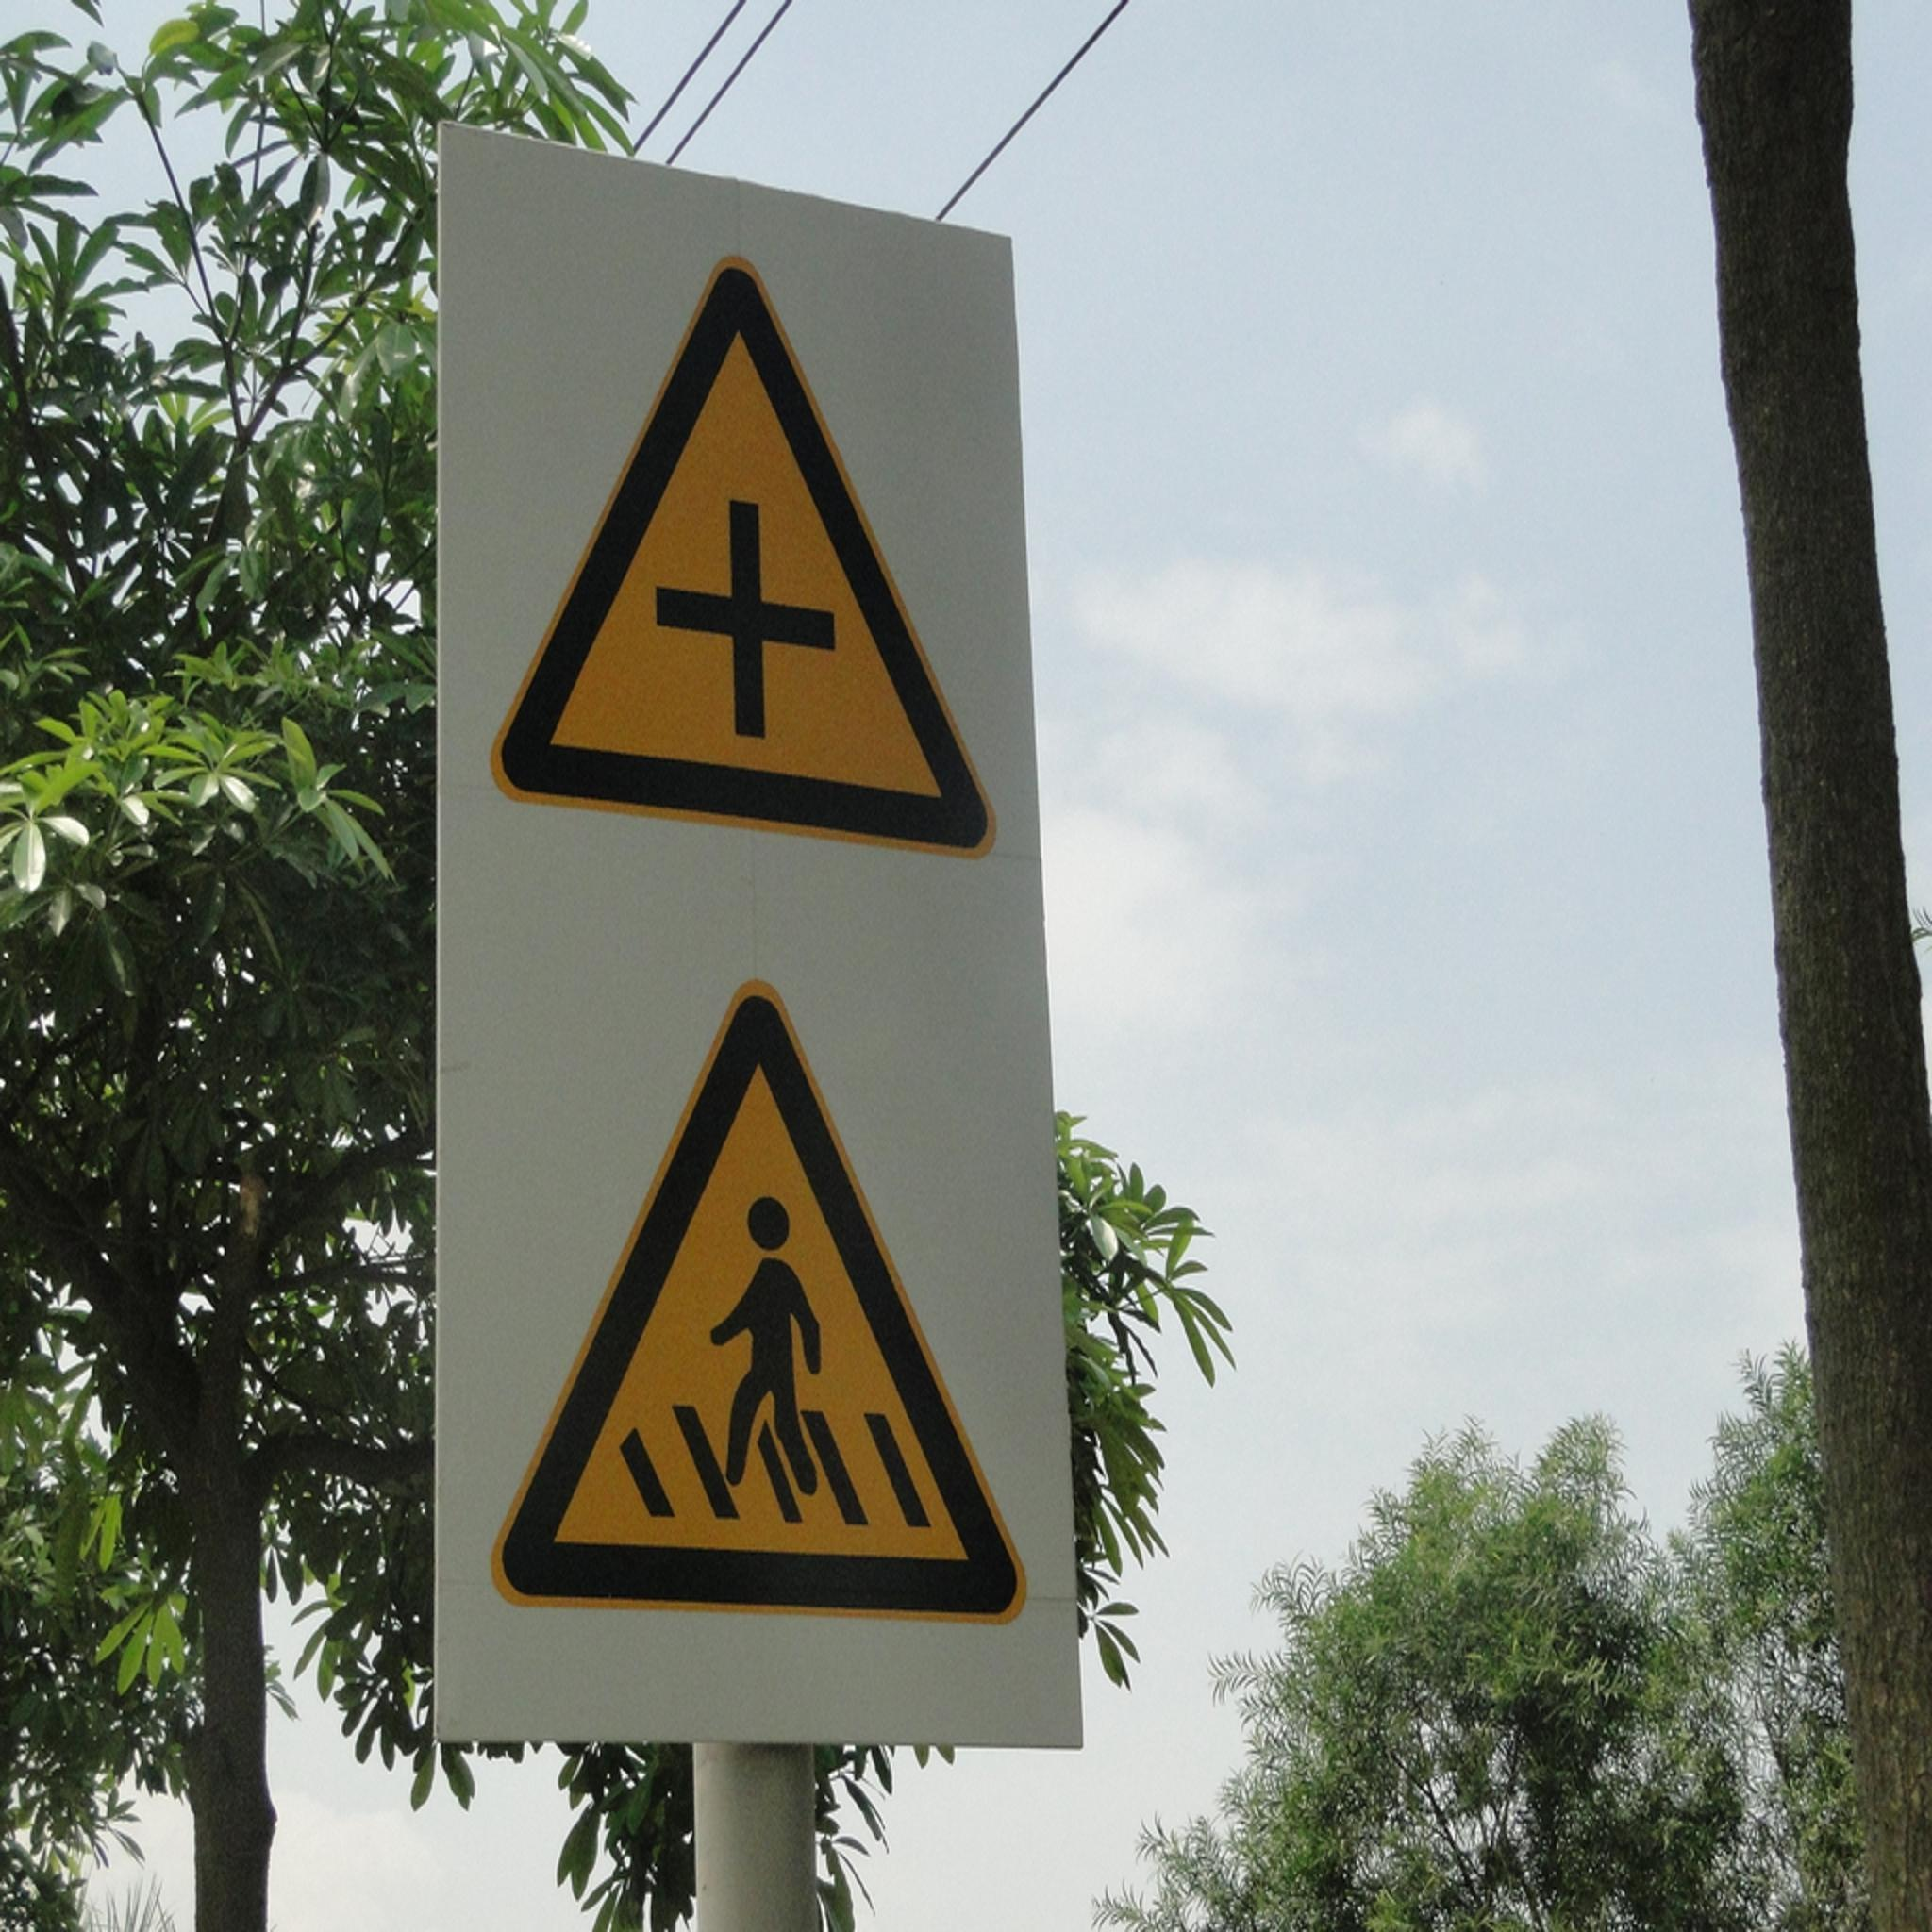w13: (501, 255, 1023, 867)
w57: (497, 959, 1030, 1599)
